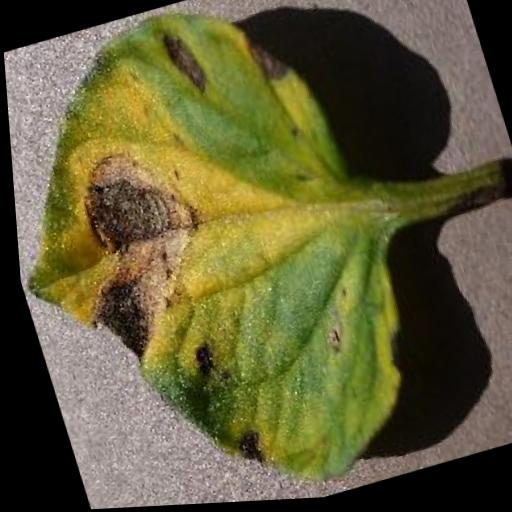Early Blight: (0, 0, 441, 512)
